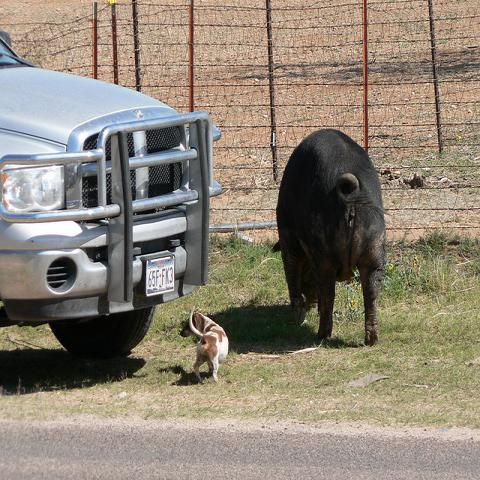truck: (2, 22, 224, 364)
